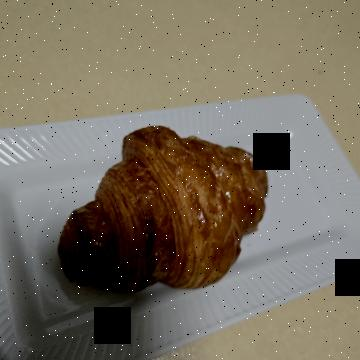croissant: (99, 89, 303, 322)
